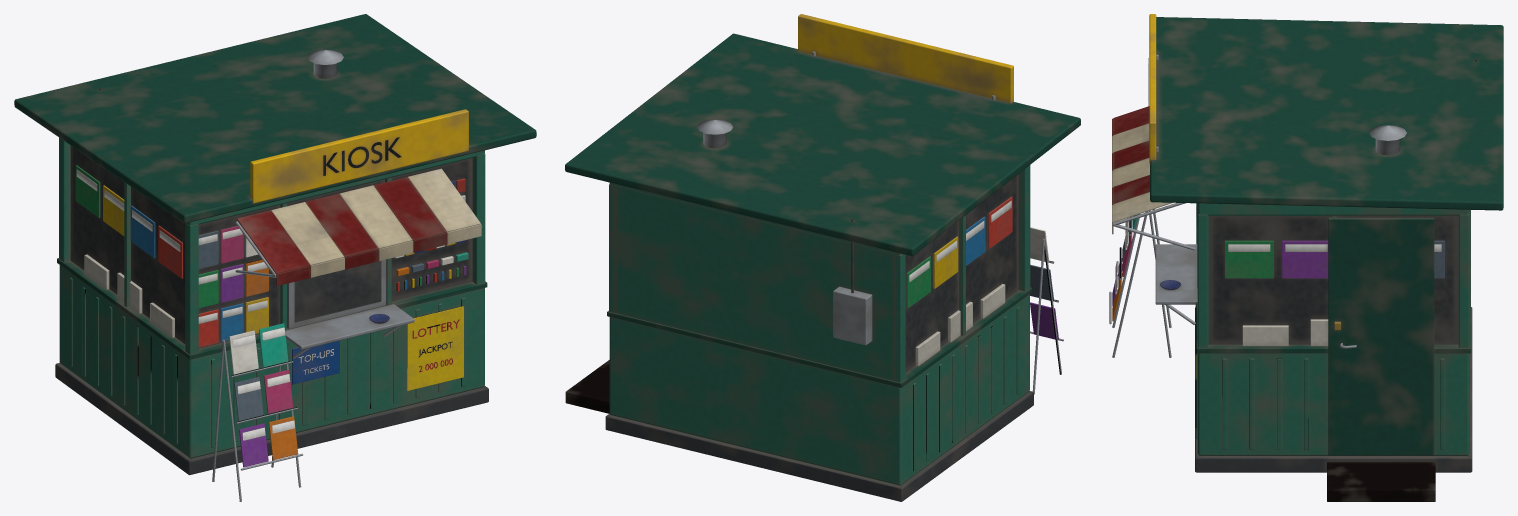
Rendered from kiosk.glb.
3 views of the same model, side by side, from view 1: azimuth 30°, elevation 25°; view 2: azimuth 150°, elevation 25°; view 3: azimuth 270°, elevation 25° (orthographic). The views are drawn at different scales.
Parts seen in each view (by area): view 1: Kiosk, Towar; view 2: Kiosk, Towar; view 3: Kiosk, Towar.
Boxes of the visible parts, x1=… form: Kiosk: x1=14, y1=14, x2=536, y2=475; Towar: x1=75, y1=137, x2=468, y2=501; Kiosk: x1=565, y1=14, x2=1080, y2=501; Towar: x1=906, y1=196, x2=1063, y2=394; Kiosk: x1=1112, y1=14, x2=1503, y2=501; Towar: x1=1109, y1=58, x2=1444, y2=427.
Bounding box in the file's own units: 3.38 × 2.67 × 2.9.
2 materials, 2 textured.
